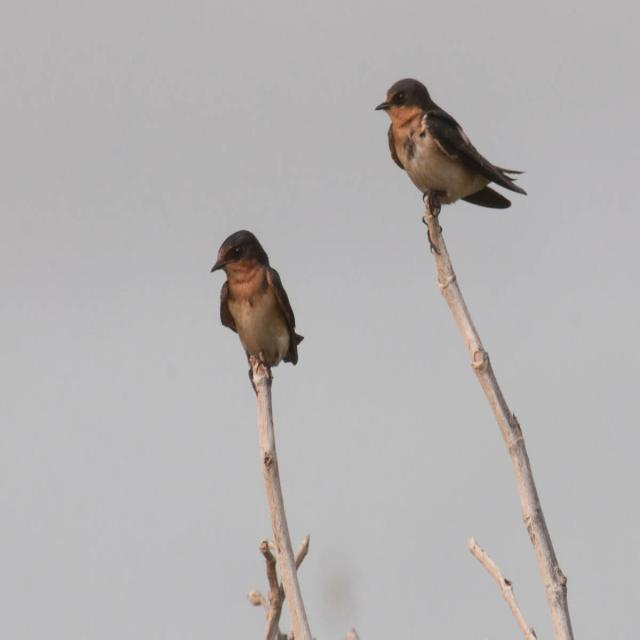bird: (375, 84, 533, 224), (207, 227, 310, 398)
